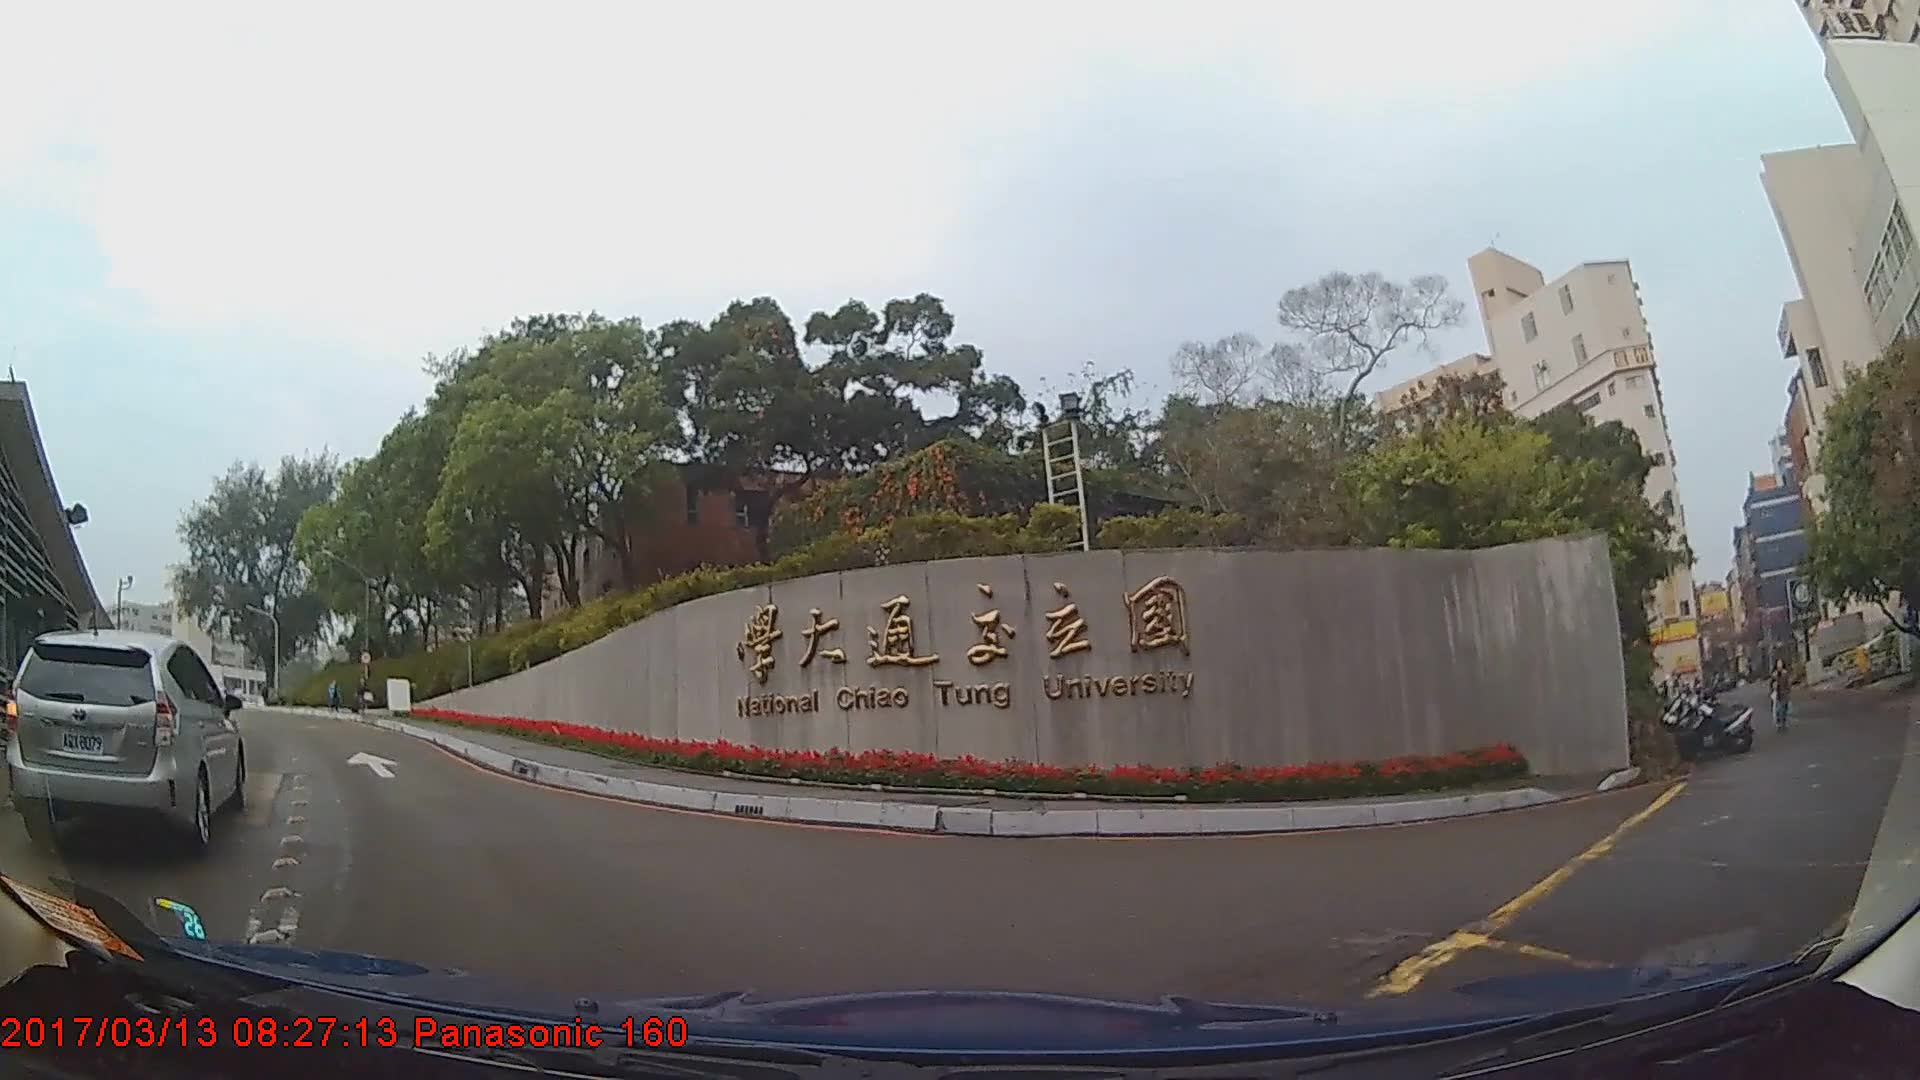pedestrian: (1769, 660, 1794, 734)
vehicle: (9, 626, 248, 856)
